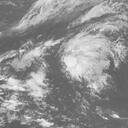cyclone: (61, 32, 115, 95)
